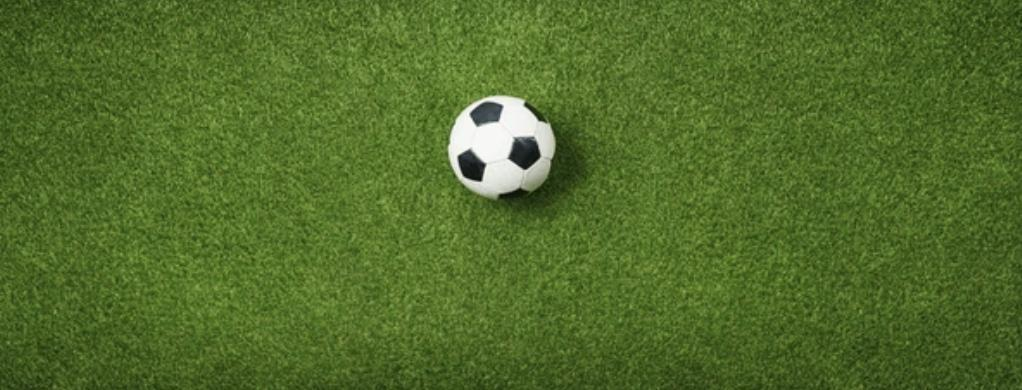Sports-Ball: (447, 96, 555, 199)
